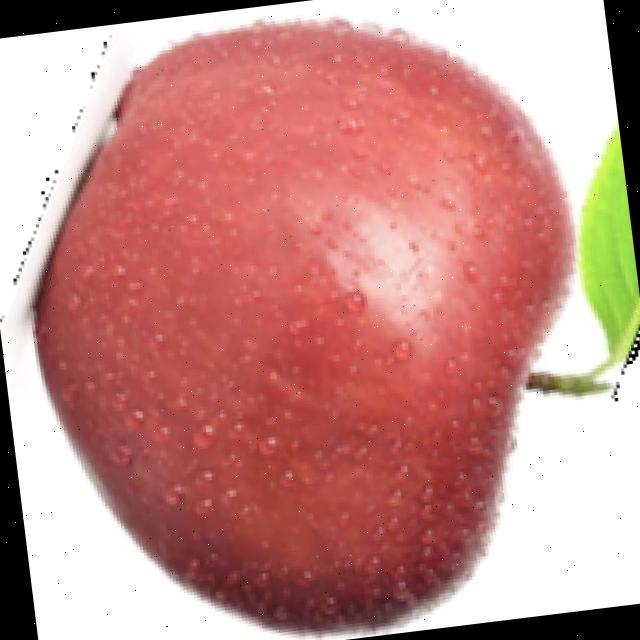apple: (0, 13, 640, 640)
